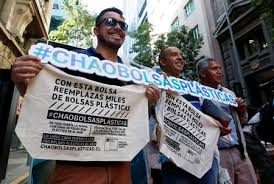person: (67, 6, 141, 77)
